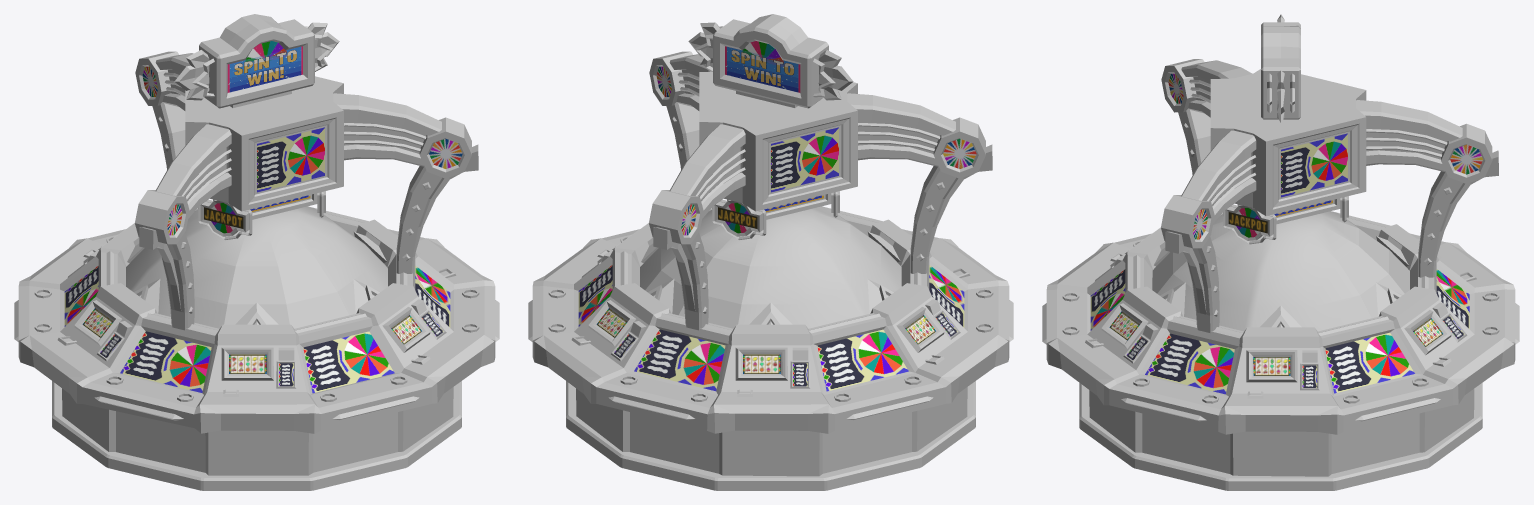
Rendered from SM_Prop_Fortune_Wheel_02.fbx.
3 views of the same model, side by side, from view 1: azimuth 30°, elevation 25°; view 2: azimuth 150°, elevation 25°; view 3: azimuth 270°, elevation 25° (orthographic).
Parts seen in each view (by area): view 1: SM_Prop_Fortune_Wheel_02; view 2: SM_Prop_Fortune_Wheel_02; view 3: SM_Prop_Fortune_Wheel_02.
Boxes of the visible parts, box(x1,y1,x2,y2) form: SM_Prop_Fortune_Wheel_02: box(14, 14, 499, 490); SM_Prop_Fortune_Wheel_02: box(528, 14, 1013, 490); SM_Prop_Fortune_Wheel_02: box(1042, 14, 1519, 490).
Bounding box in the file's own units: 457 × 400 × 460.
